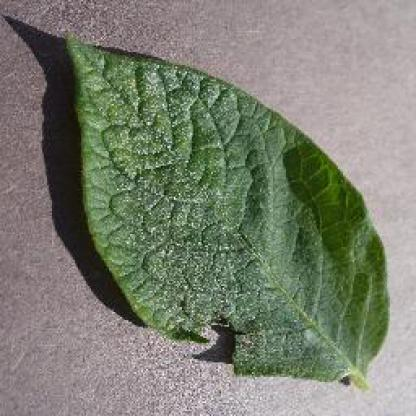good leaf: (36, 19, 406, 391)
